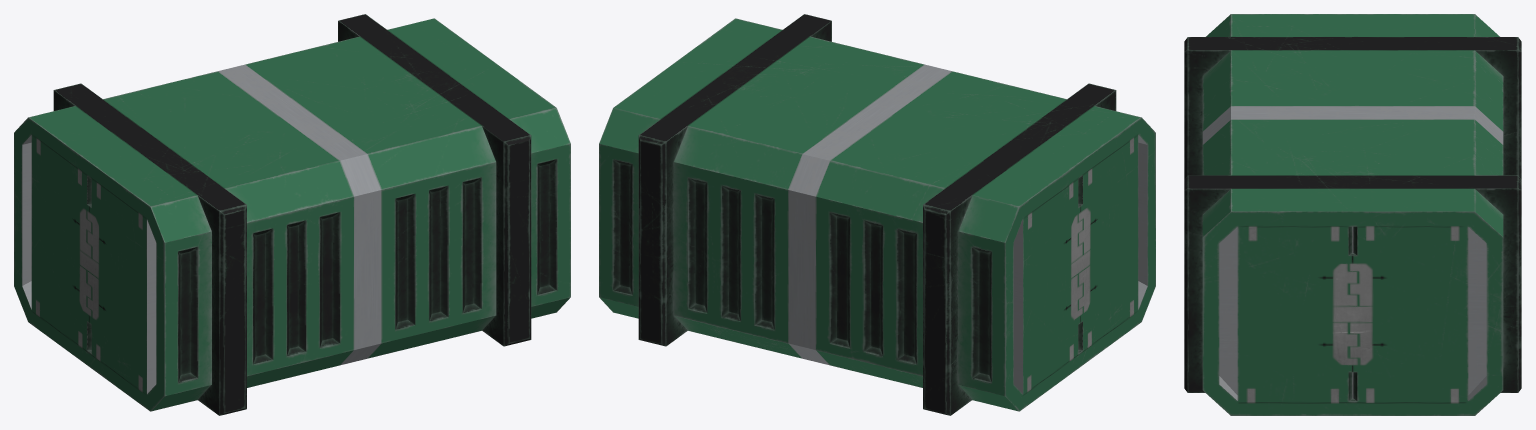
The model's file is container.fbx.
The picture shows the model from 3 angles, left to right: view 1: azimuth 30°, elevation 25°; view 2: azimuth 150°, elevation 25°; view 3: azimuth 270°, elevation 25°; orthographic projection.
Parts seen in each view (by area): view 1: container:container_lvl2_container_lvl2; view 2: container:container_lvl2_container_lvl2; view 3: container:container_lvl2_container_lvl2.
Part boxes in pixels (x1,y1,x2,y2): container:container_lvl2_container_lvl2: (14, 14, 570, 415); container:container_lvl2_container_lvl2: (599, 14, 1155, 415); container:container_lvl2_container_lvl2: (1184, 14, 1521, 415).
Bounding box in the file's own units: 0.0935 × 0.045 × 0.0674.
1 material, 1 textured.
